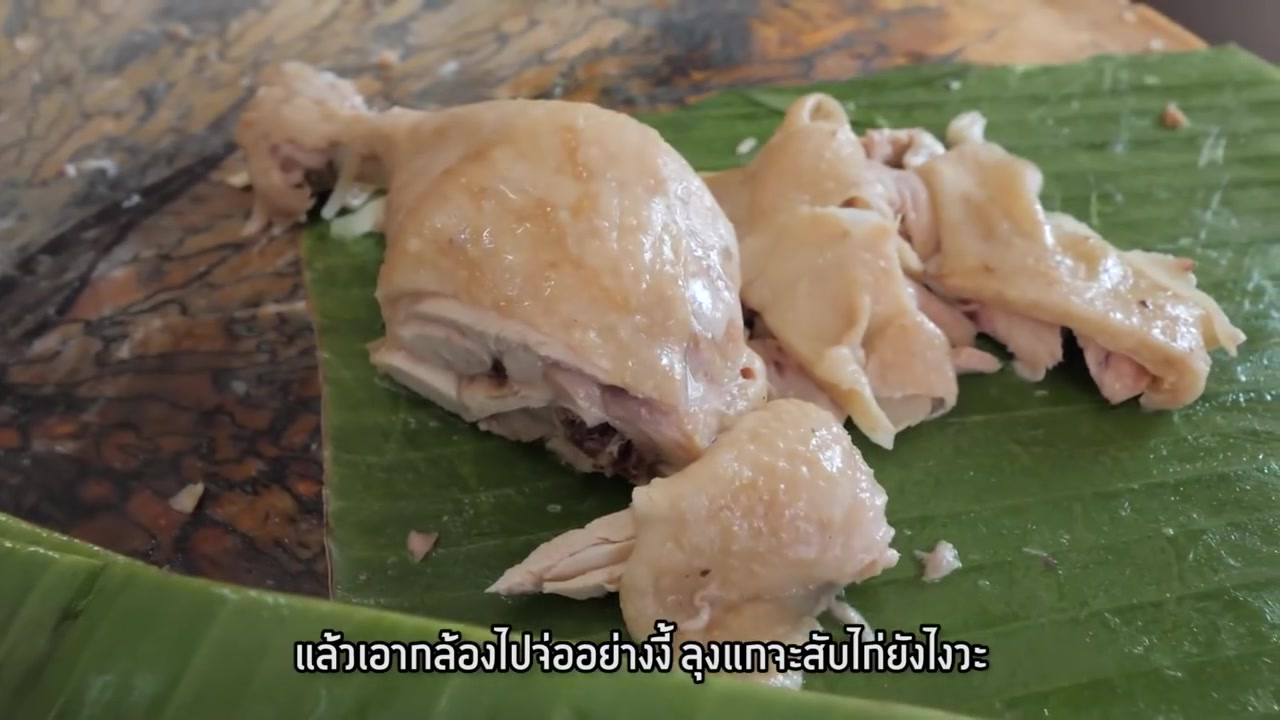text-label: (292, 620, 990, 684)
